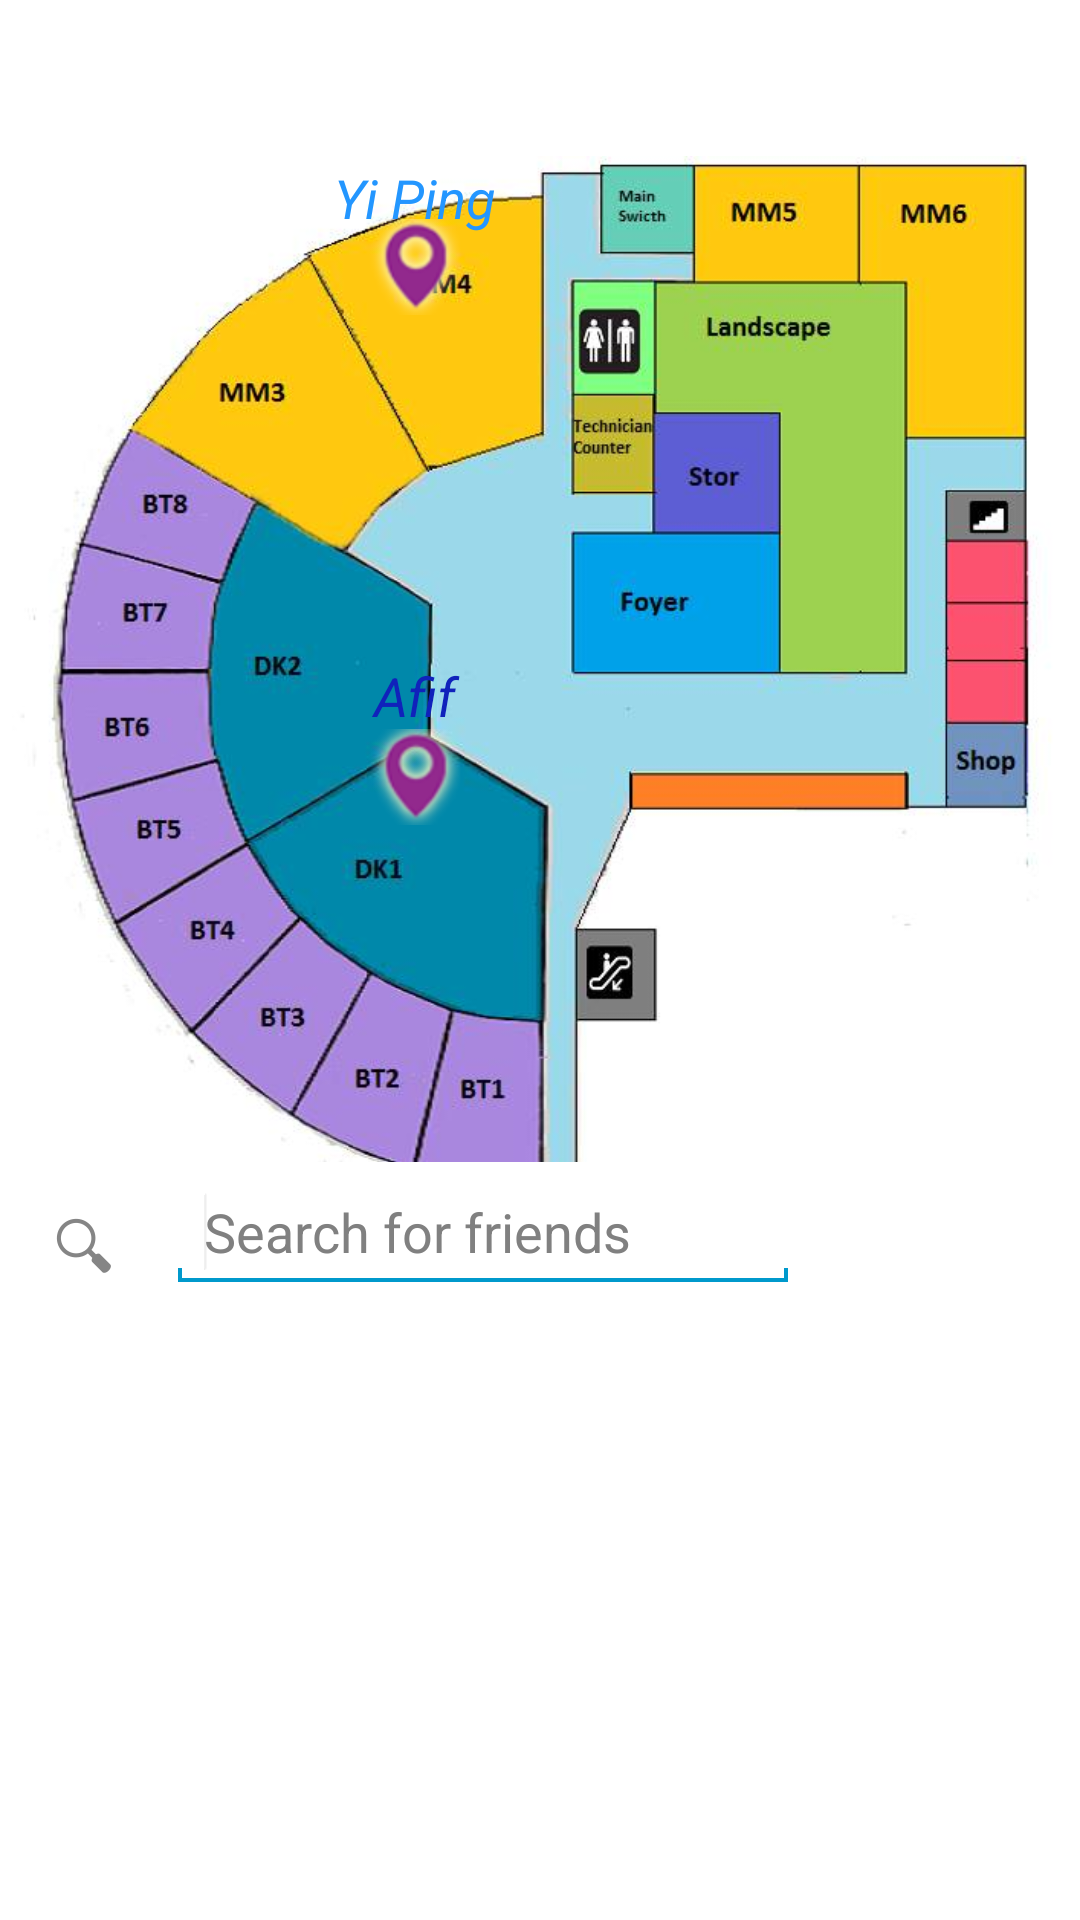

Named icons in this screenshot (1080x1920) and their bounding boxes, rect(x1, y1, x2, y2):
indicator: rect(366, 219, 462, 313), rect(366, 729, 462, 825)
